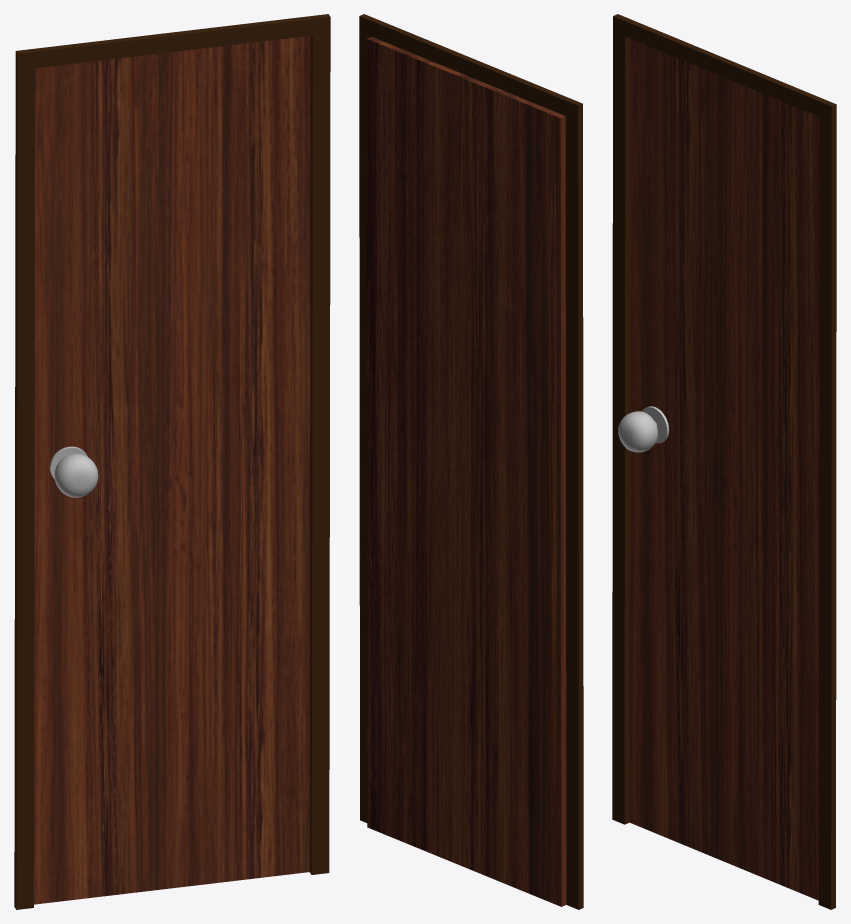
The model's file is puerta_banio.glb.
3 views of the same model, side by side, from view 1: azimuth 30°, elevation 25°; view 2: azimuth 150°, elevation 25°; view 3: azimuth 330°, elevation 25° (orthographic). The views are drawn at different scales.
Parts seen in each view (by area): view 1: puerta baños; view 2: puerta baños; view 3: puerta baños.
Part boxes in pixels (x1,y1,x2,y2): puerta baños: (14, 14, 330, 909); puerta baños: (359, 14, 583, 909); puerta baños: (612, 14, 836, 909).
Size of the model in its own units: 4.19 by 12.44 by 1.19.
Materials: 3 (1 with a texture image).
